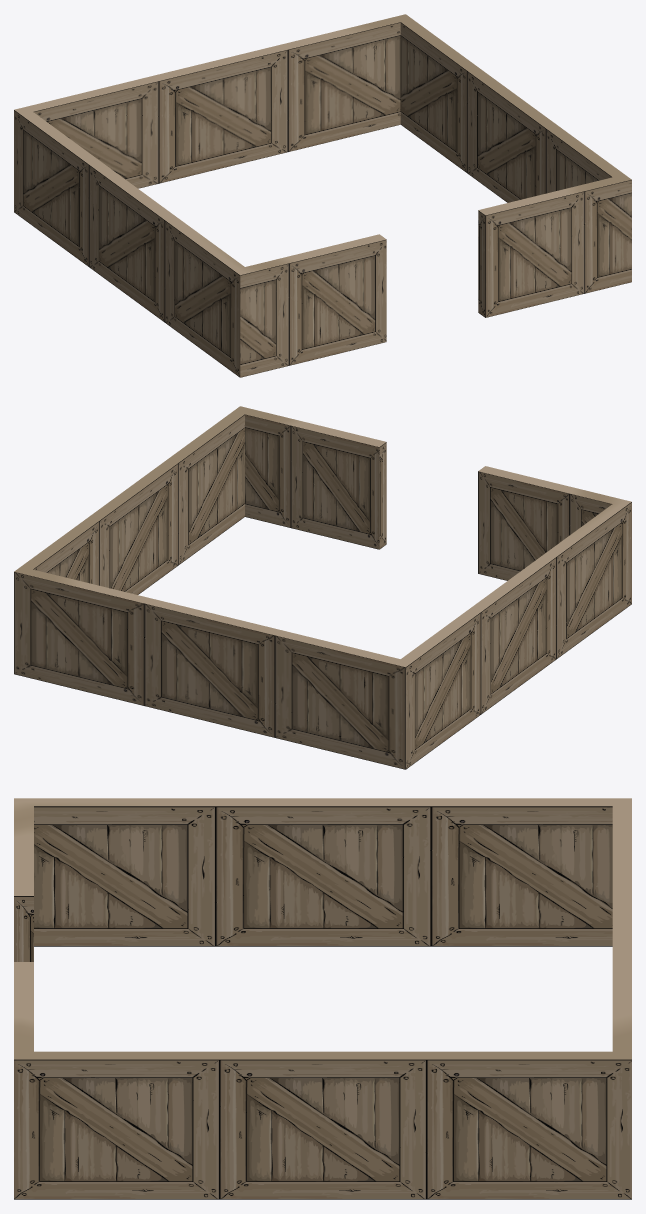
The model's file is Room Prototype.fbx.
3 renders of one model, top to bottom at view 1: azimuth 30°, elevation 25°; view 2: azimuth 150°, elevation 25°; view 3: azimuth 270°, elevation 25°, orthographic. The views are drawn at different scales.
Parts seen in each view (by area): view 1: pCube1; view 2: pCube1; view 3: pCube1.
Part boxes in pixels (x1,y1,x2,y2): pCube1: (14, 14, 631, 377); pCube1: (14, 406, 631, 769); pCube1: (14, 798, 631, 1199).
Size of the model in its own units: 400 by 100 by 400.
1 material, 1 textured.
